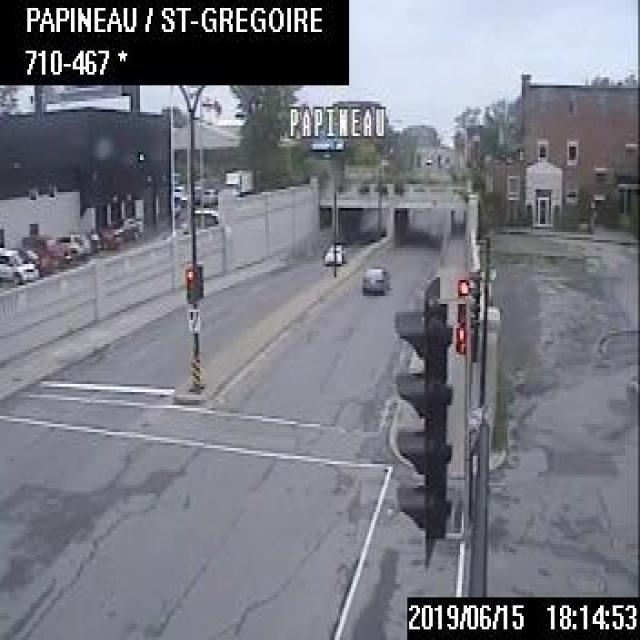vehicle: (0, 242, 40, 282), (49, 230, 90, 261), (221, 166, 255, 196), (106, 214, 142, 242), (360, 264, 389, 291), (323, 243, 342, 264)
